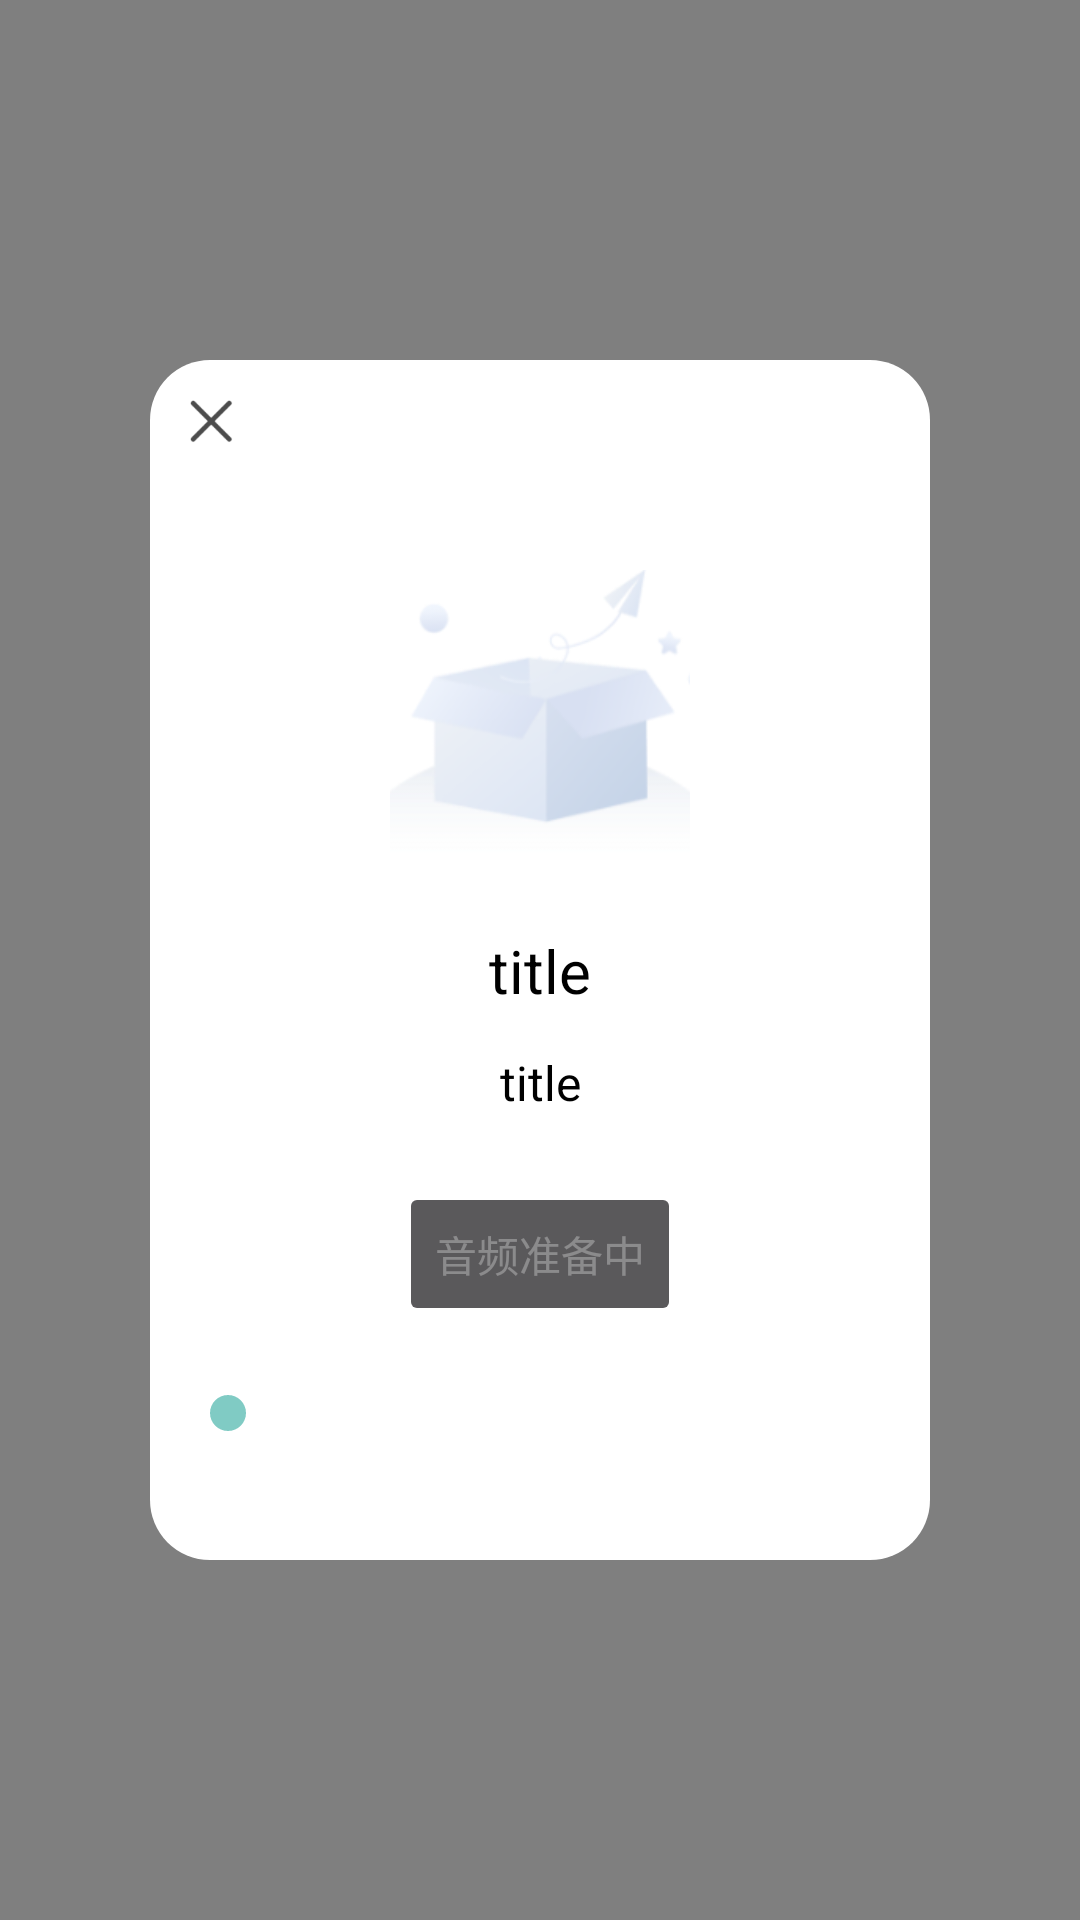

Where to tap for icons on this 1080w x 1920h app screen, as (x=x, y=y):
close: (x=210, y=420)
